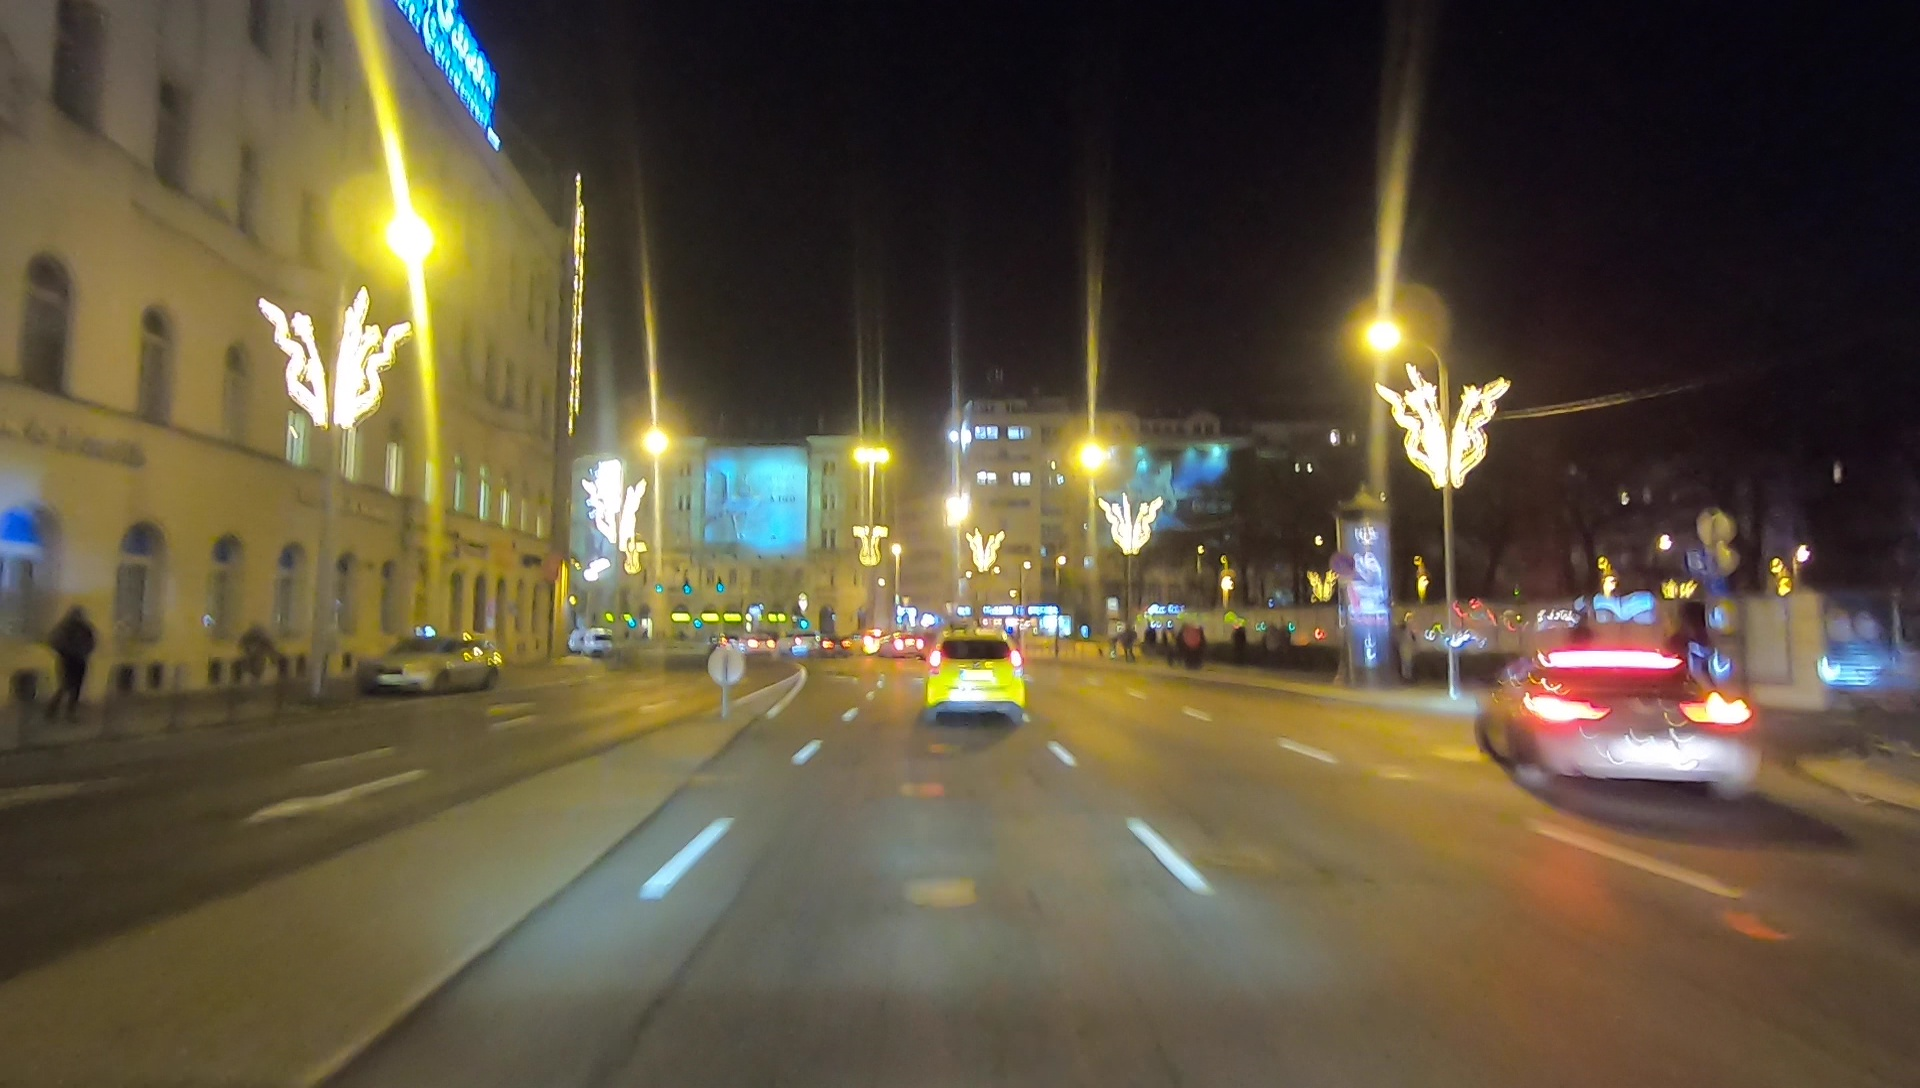person: (51, 602, 89, 726)
